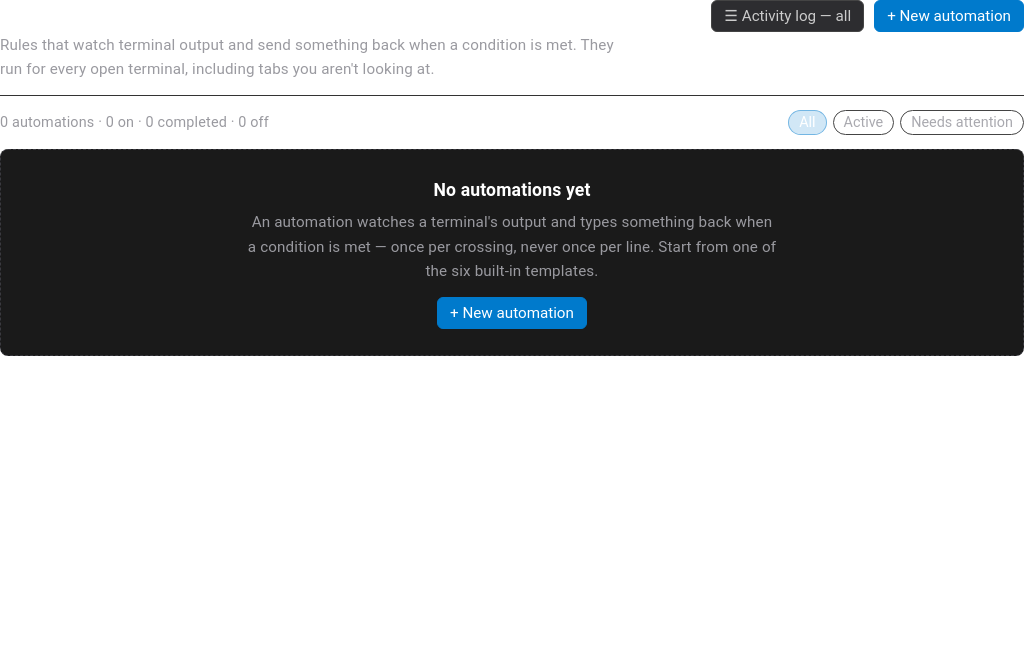
Scenario: AutomationsPanel › the template gallery shows the ten templates plus a blank card
Step 1. Click the button "+ New automation" in the row of "Terminal automations" → (949, 16), box [874, 0, 1023, 32]
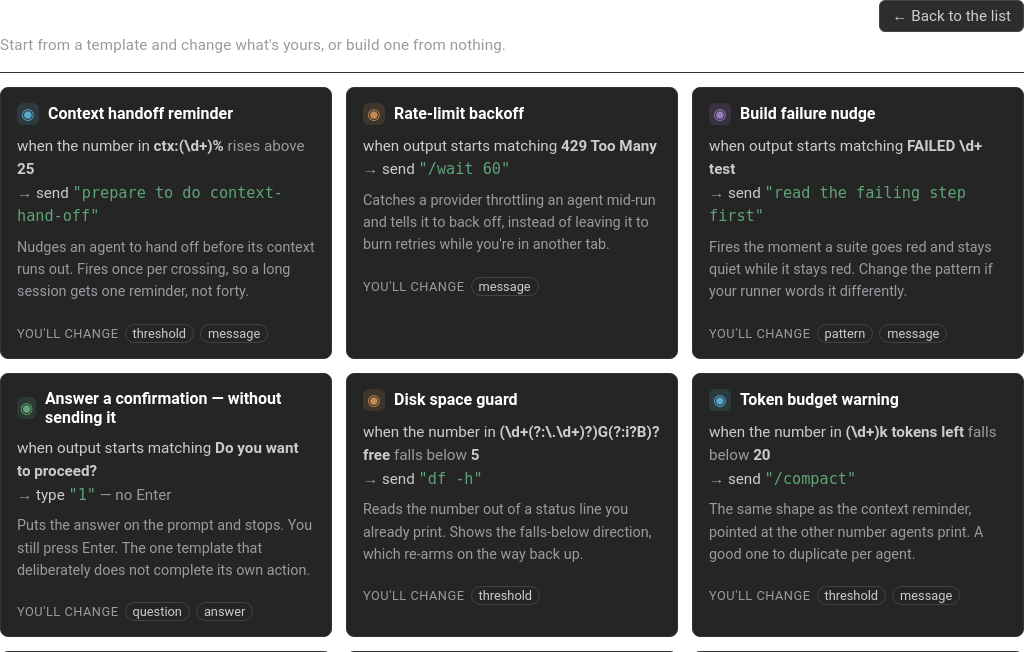
Check: the number of buttons with class "au-tplcard" is 11
